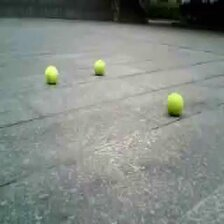tennis: (166, 90, 184, 116), (46, 66, 57, 83), (94, 60, 105, 73)
